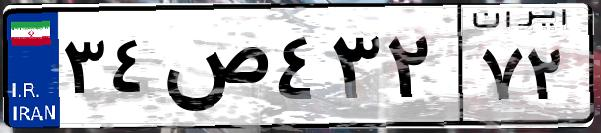2: (385, 28, 445, 110), (525, 38, 570, 115)
3: (330, 28, 385, 110), (57, 26, 110, 100)
4: (270, 28, 330, 110), (110, 28, 158, 98)
7: (475, 38, 525, 113)
ص: (158, 20, 270, 120)
